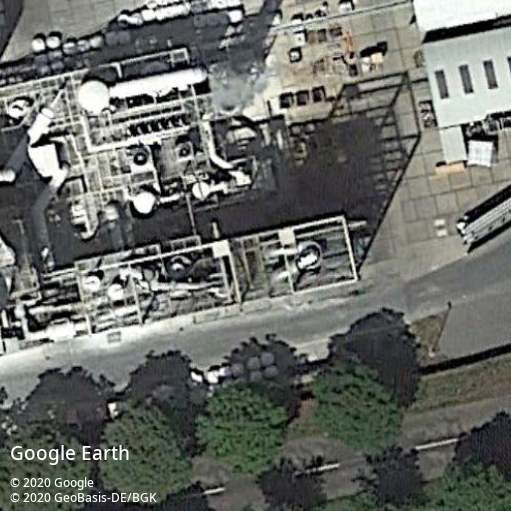Vent: (175, 142, 192, 161), (132, 151, 149, 167)
